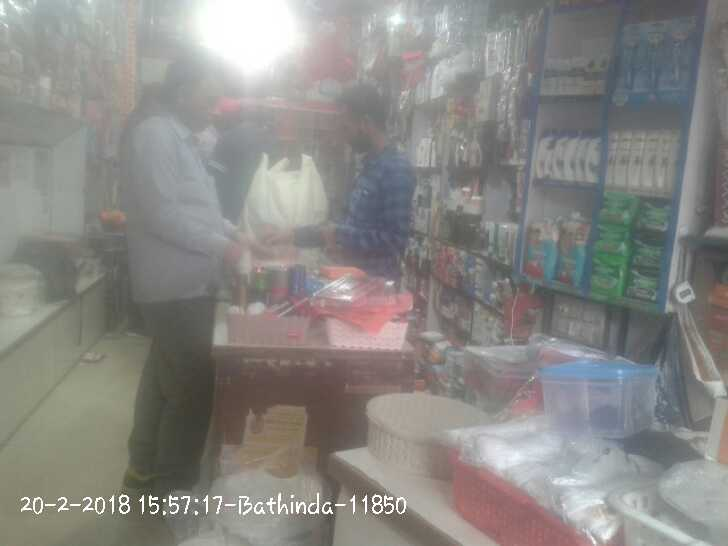venus: (665, 16, 696, 88), (619, 24, 640, 90), (642, 22, 662, 88)
